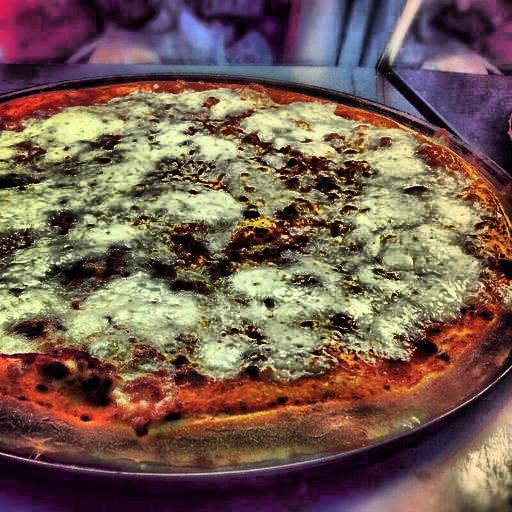pizza: (1, 69, 512, 459)
